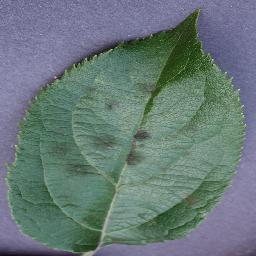apple healthy: (4, 6, 247, 255)
